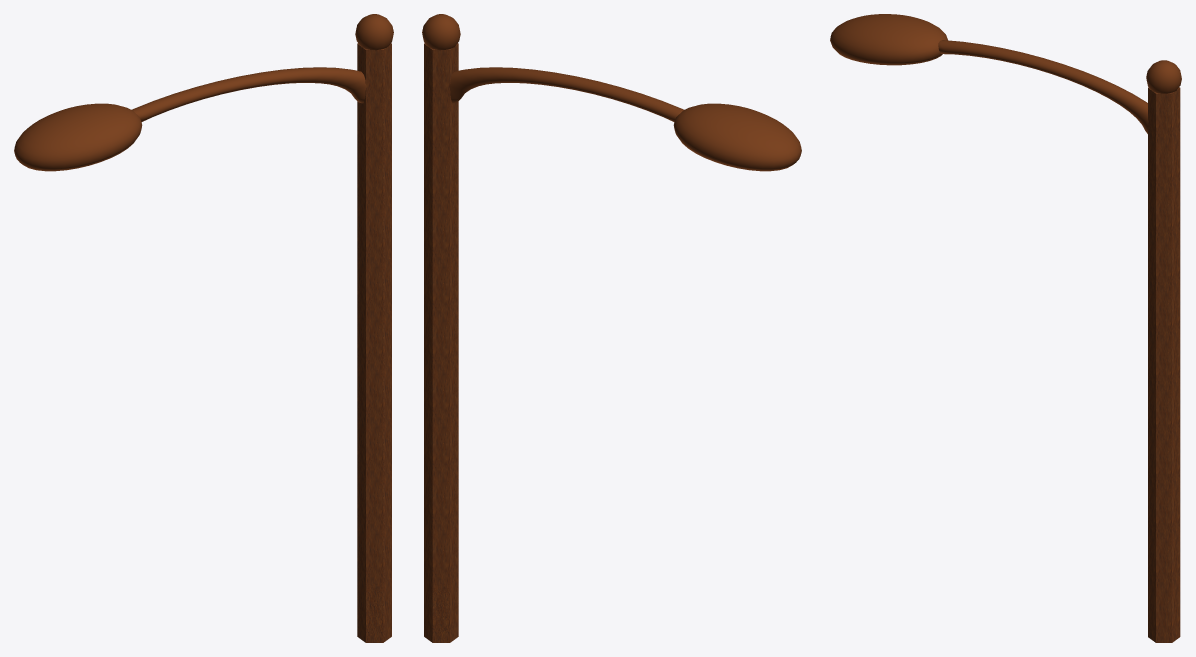
Rendered from Lampara.obj.
The picture shows the model from 3 angles, left to right: view 1: azimuth 30°, elevation 25°; view 2: azimuth 150°, elevation 25°; view 3: azimuth 330°, elevation 25°; orthographic projection. The views are drawn at different scales.
Parts seen in each view (by area): view 1: Lampara_Material.003; view 2: Lampara_Material.003; view 3: Lampara_Material.003.
Part boxes in pixels (x1=…): Lampara_Material.003: x1=14, y1=14, x2=393, y2=642; Lampara_Material.003: x1=422, y1=14, x2=801, y2=642; Lampara_Material.003: x1=830, y1=14, x2=1181, y2=642.
Bounding box in the file's own units: 9.13 × 14.53 × 2.
1 material, 1 textured.
